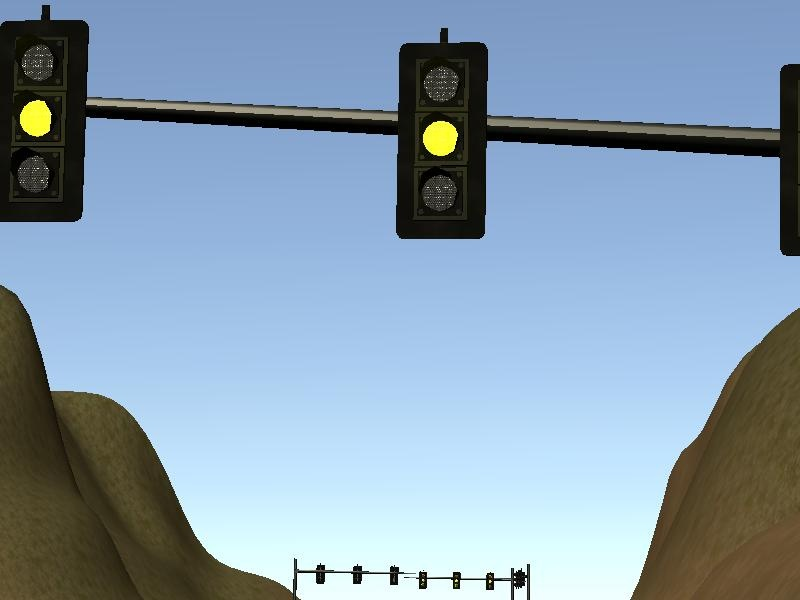YELLOW: (396, 41, 489, 241), (1, 20, 89, 222)
